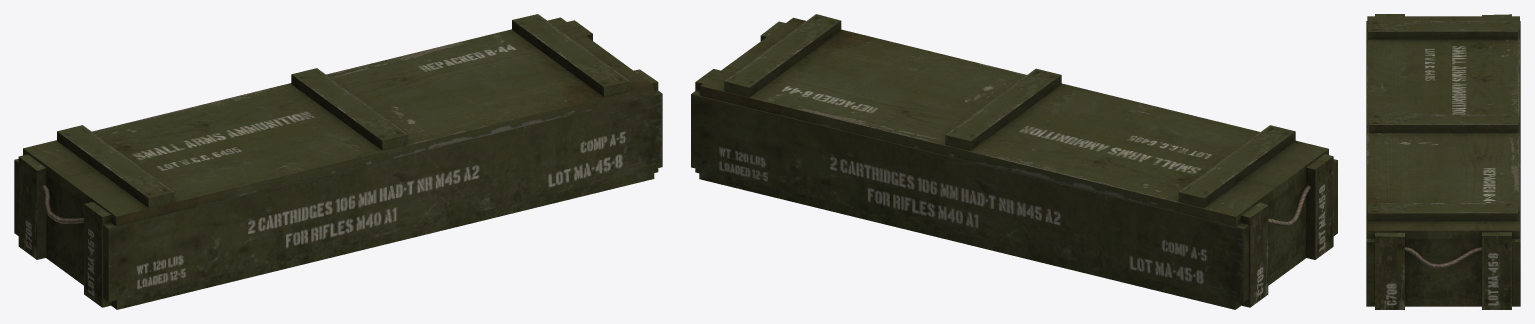
Rendered from supply_crate.fbx.
3 views of the same model, side by side, from view 1: azimuth 30°, elevation 25°; view 2: azimuth 150°, elevation 25°; view 3: azimuth 270°, elevation 25° (orthographic). The views are drawn at different scales.
Parts seen in each view (by area): view 1: supply_crate; view 2: supply_crate; view 3: supply_crate.
Boxes of the visible parts, <box> form: supply_crate: <box>14,14,662,309</box>; supply_crate: <box>691,14,1337,309</box>; supply_crate: <box>1366,14,1520,309</box>.
Bounding box in the file's own units: 63.25 × 10.93 × 18.22.
